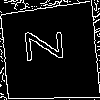Z: (24, 27, 73, 62)
